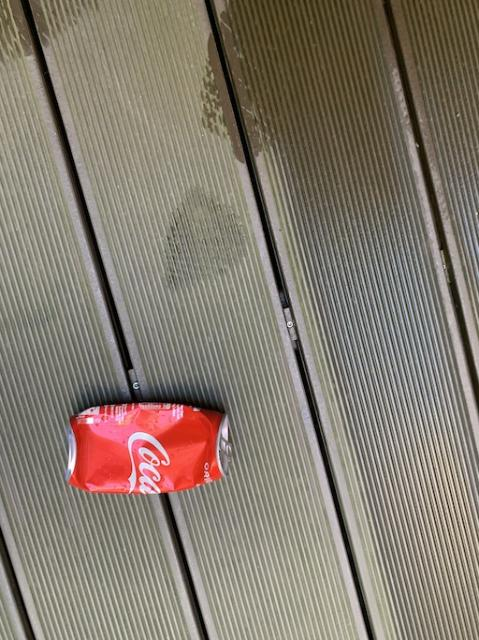metal: (66, 402, 230, 492)
